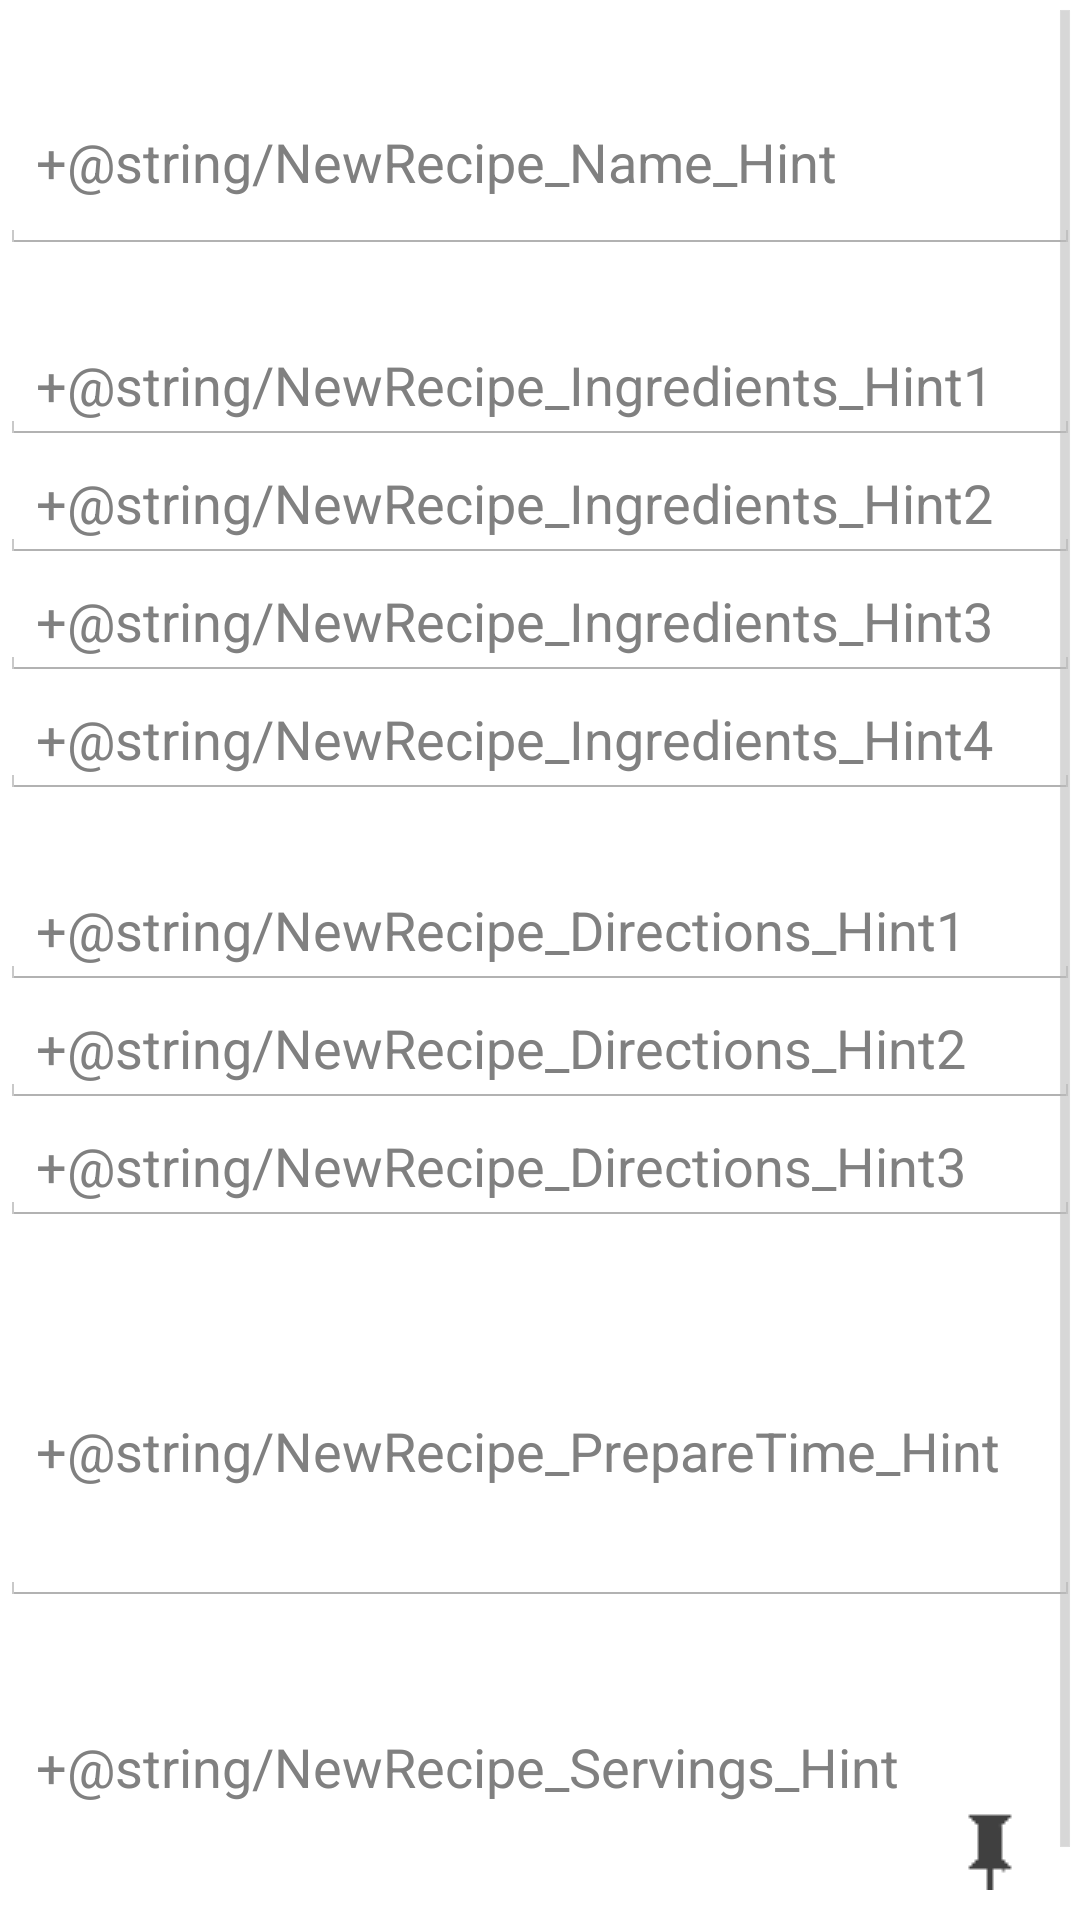

Locate icon controls on the screen. Image size 1080w x 1920h, boxes as (left=x1, top=y1, right=x2, bottom=y2).
pin: (left=968, top=1814, right=1012, bottom=1890)
